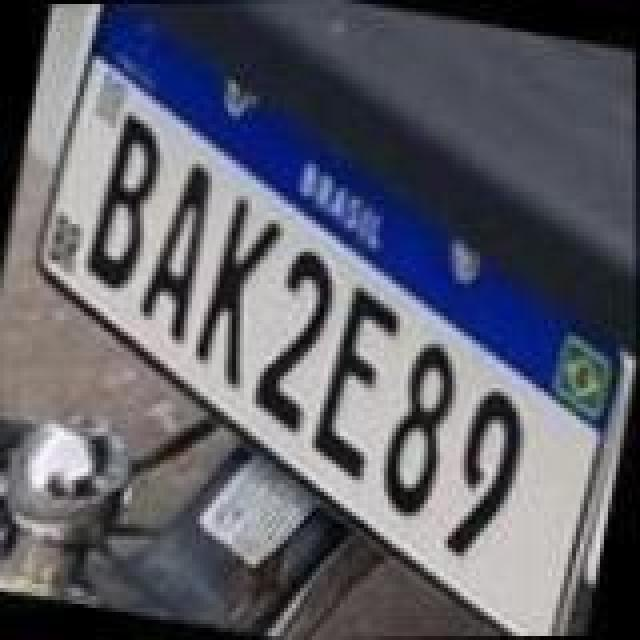2: (244, 244, 344, 436)
8: (370, 336, 470, 524)
9: (438, 386, 538, 570)
A: (126, 156, 218, 344)
B: (76, 110, 172, 298)
E: (302, 282, 410, 486)
K: (186, 188, 290, 392)
